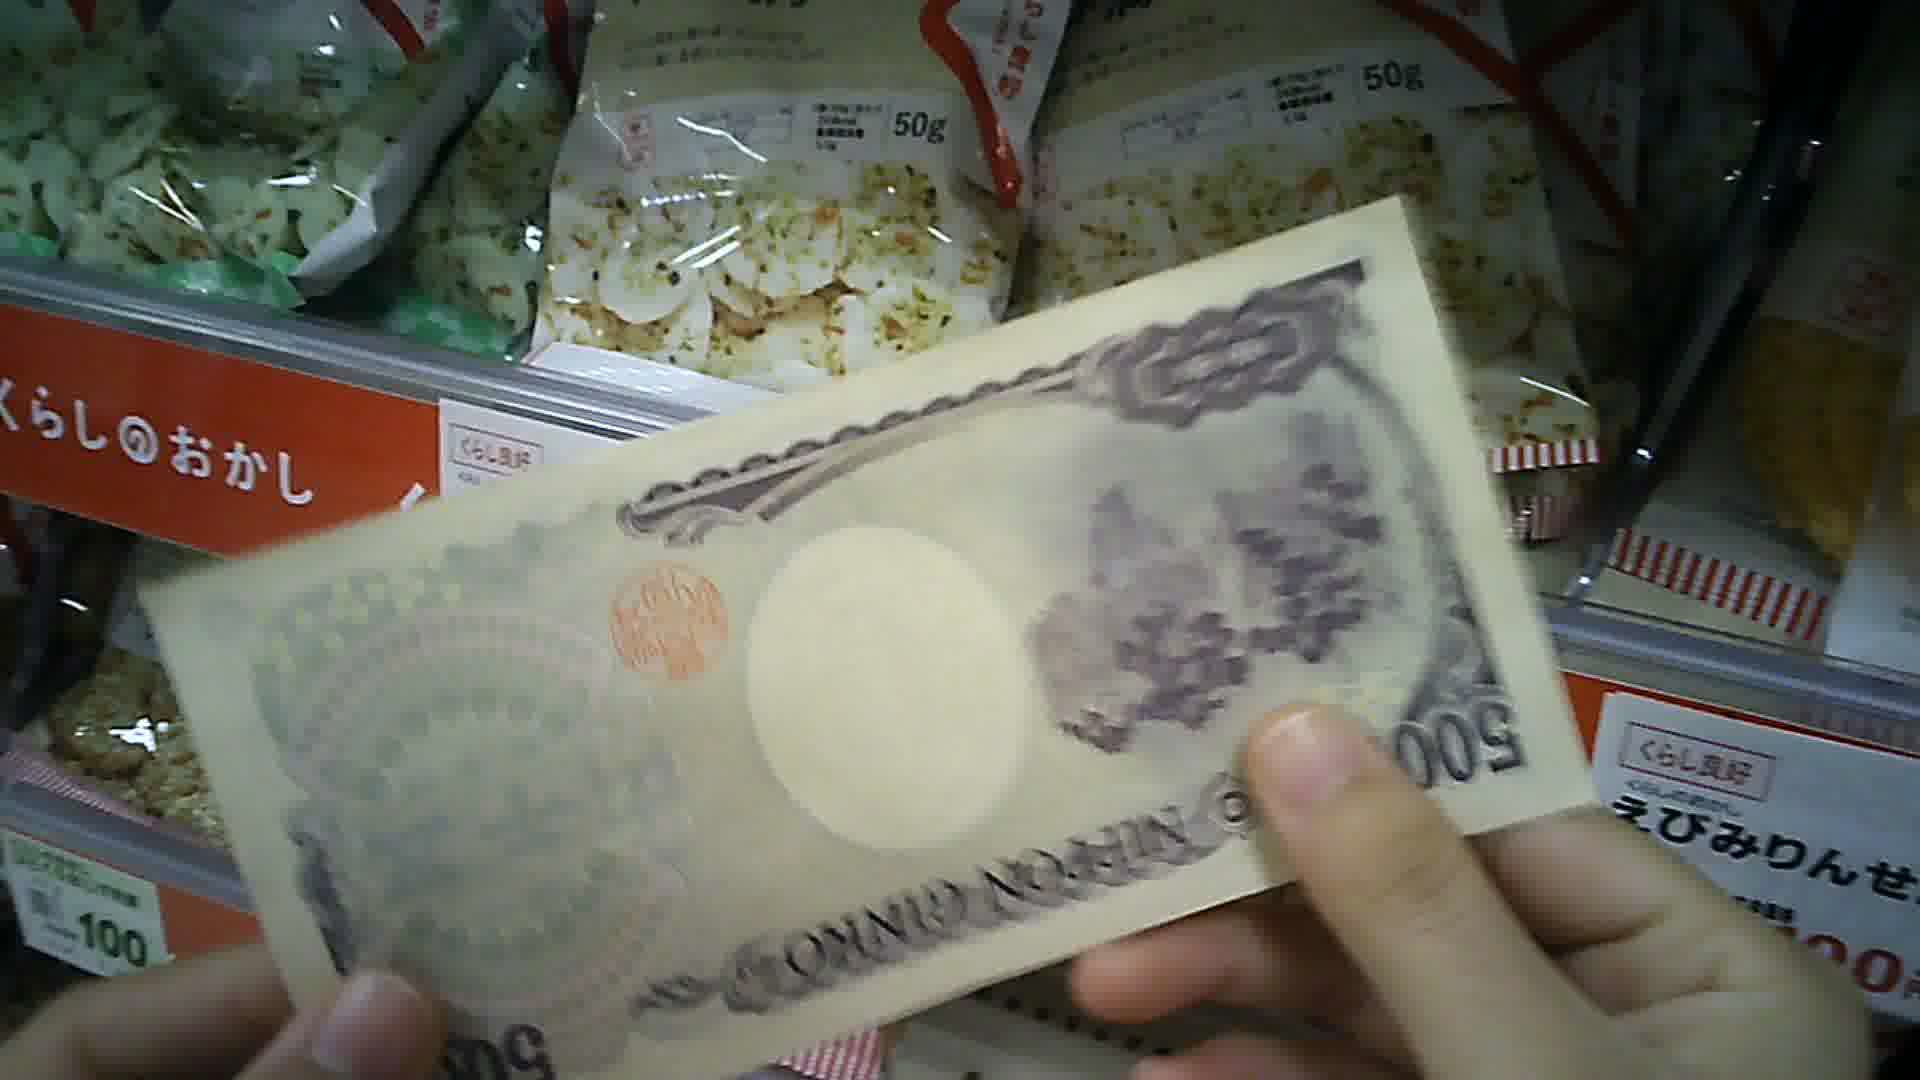5,000 Yen: (112, 160, 1604, 1079)
